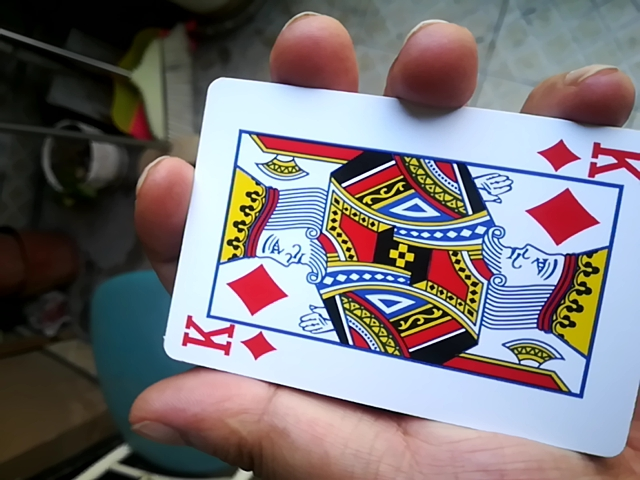fk k: (158, 74, 640, 460)
